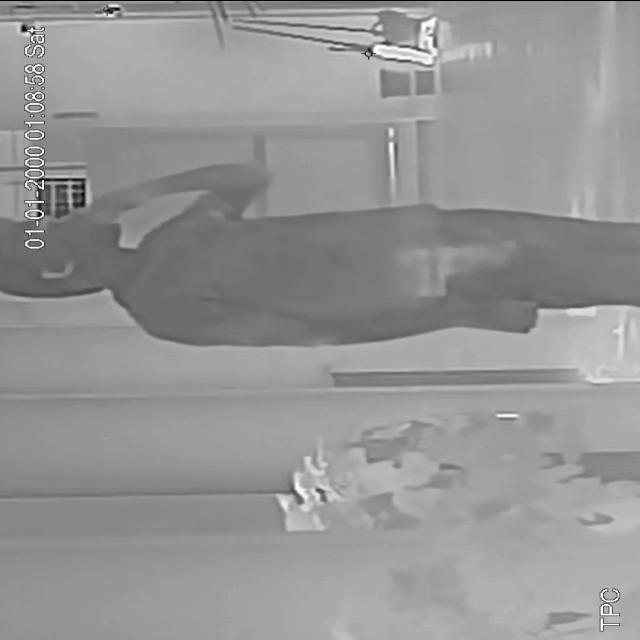Weapon: (391, 220, 541, 301)
